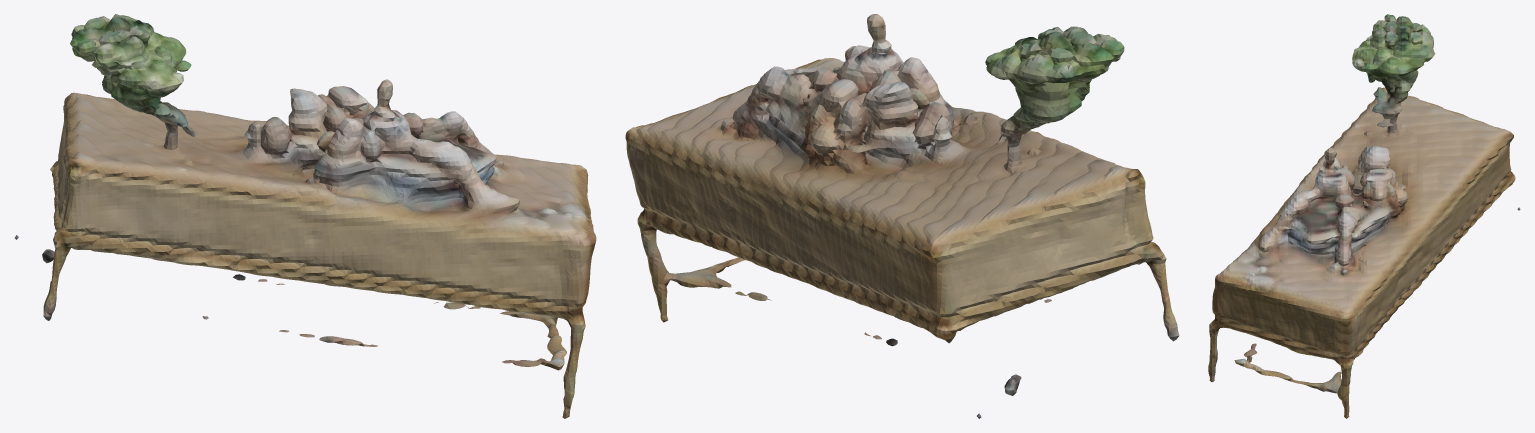
3 renders of one model, left to right at view 1: azimuth 30°, elevation 25°; view 2: azimuth 150°, elevation 25°; view 3: azimuth 270°, elevation 25°, orthographic. The views are drawn at different scales.
Parts seen in each view (by area): view 1: world; view 2: world; view 3: world.
Boxes of the visible parts, bbox=[...] form: world: bbox=[15, 14, 596, 418]; world: bbox=[625, 14, 1179, 418]; world: bbox=[1208, 14, 1520, 418].
Bounding box in the file's own units: 0.952 × 0.6744 × 0.7289.
